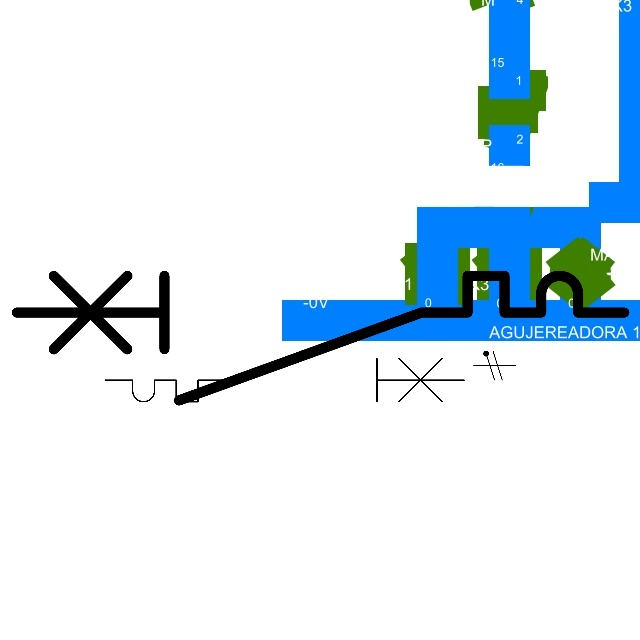interruptor_termomagnetico: (1, 260, 640, 416), (96, 319, 473, 411)
